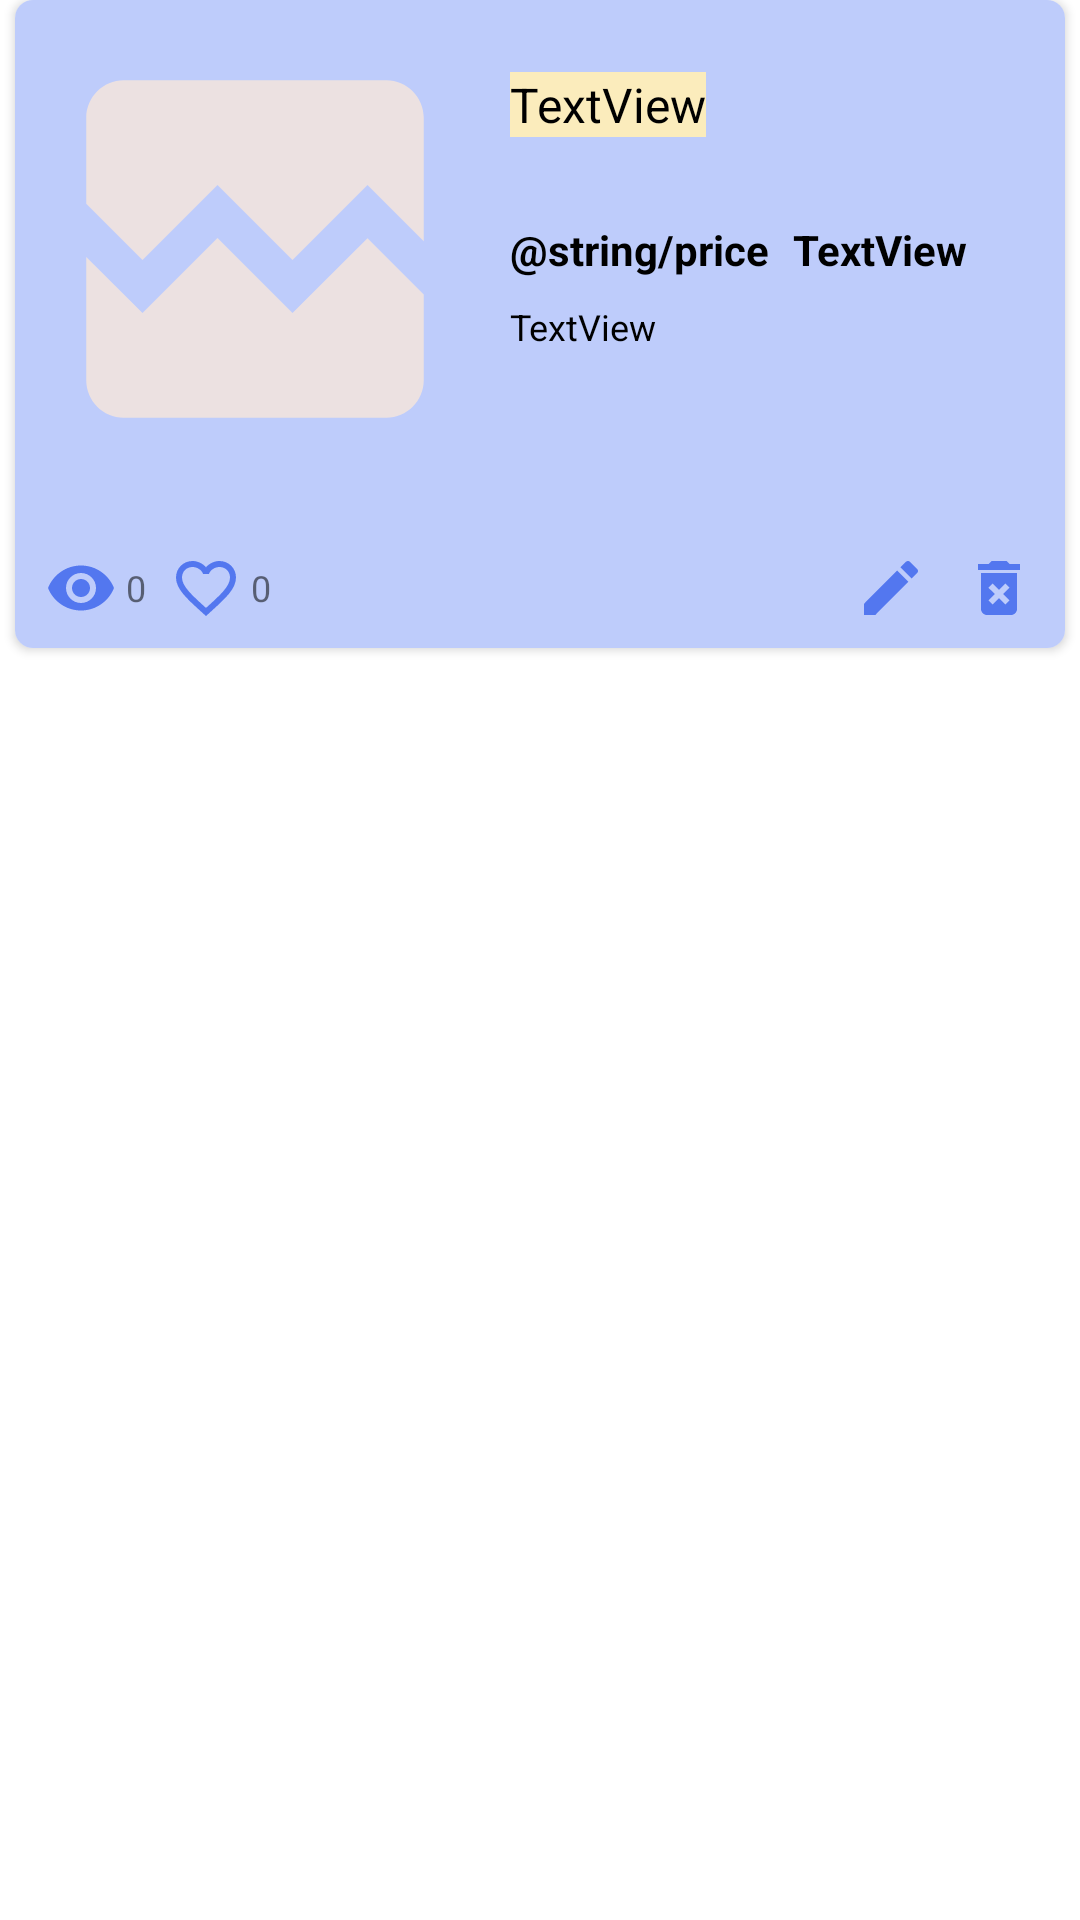

Screen size 1080 × 1920. Icon name, then its box in pixels as box(x1, y1, x2, y2):
delete: box(978, 561, 1020, 615)
edit: box(864, 561, 918, 615)
fav unpresed: box(176, 561, 236, 616)
views: box(48, 565, 114, 611)
